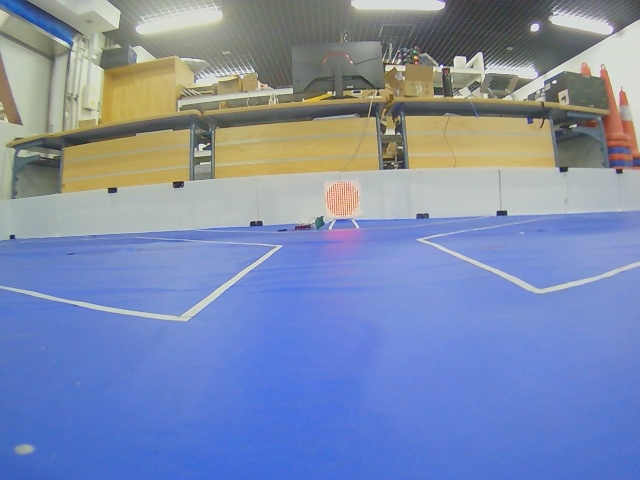red: (325, 181, 360, 218)
